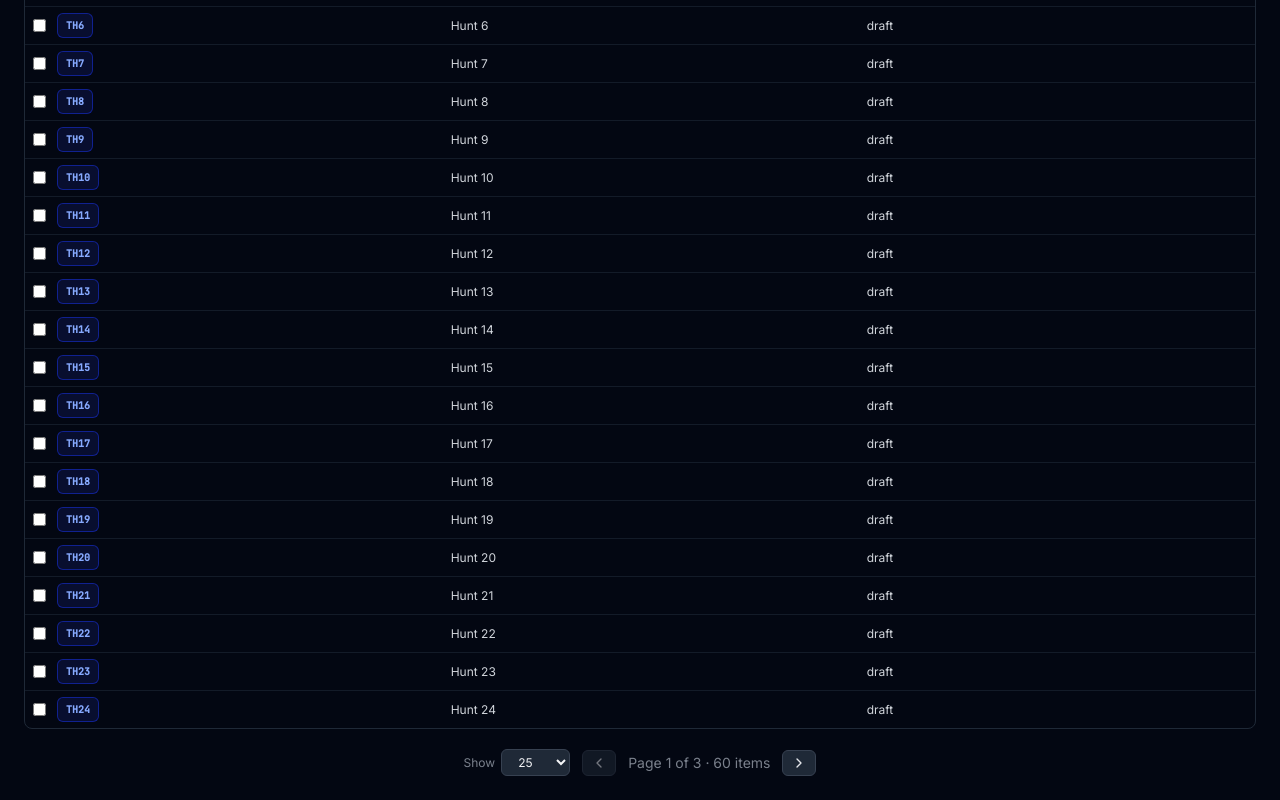
it: DataExplorer — pagination (issue-local-034) › advances to the next page and shows the next slice of rows
(page scrolled)
Click the button named "next page" at (800, 762), box [782, 750, 816, 776]
(page scrolled)
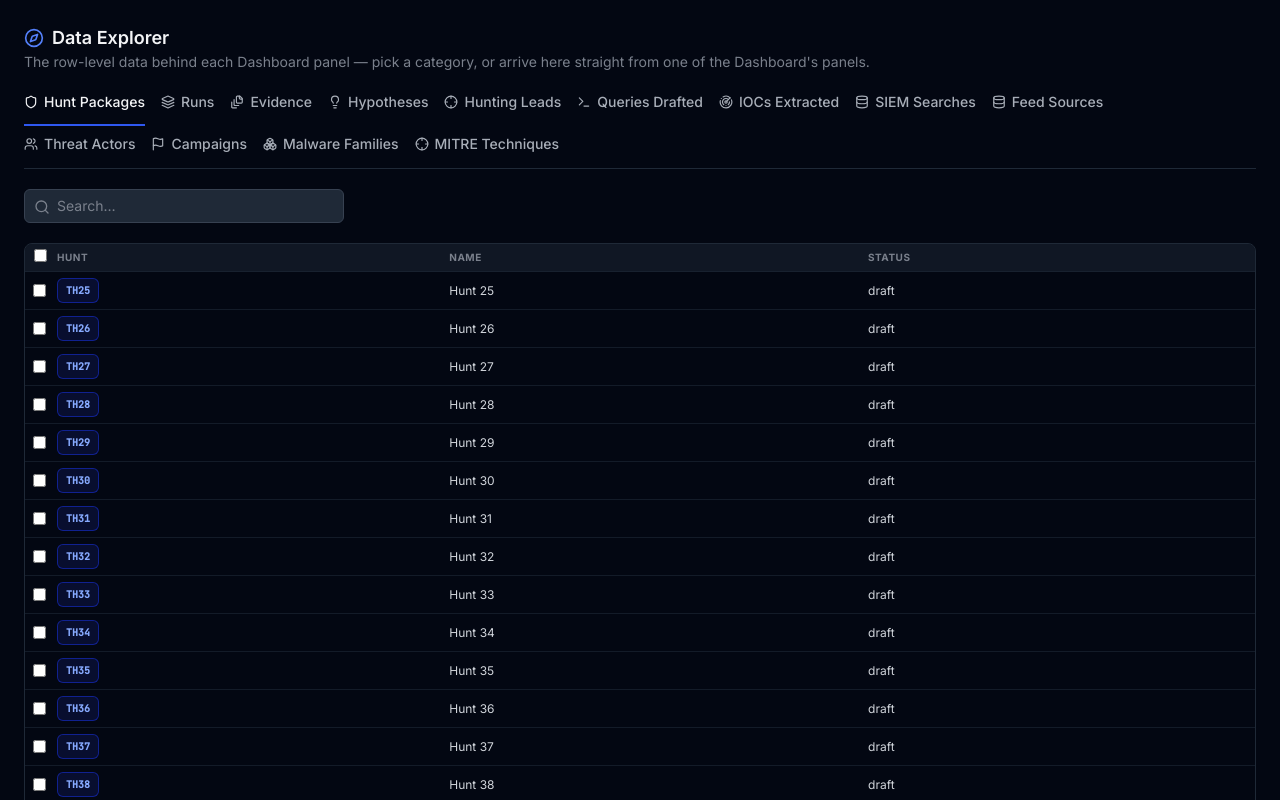
Check: the text "Hunt 25" is shown, box [441, 272, 860, 310]
